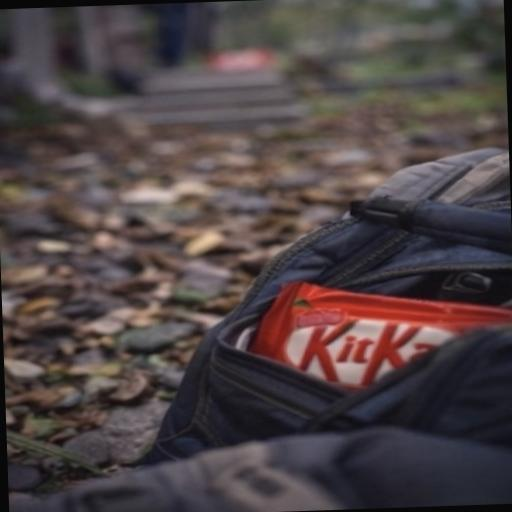kitkat: (228, 256, 512, 440)
